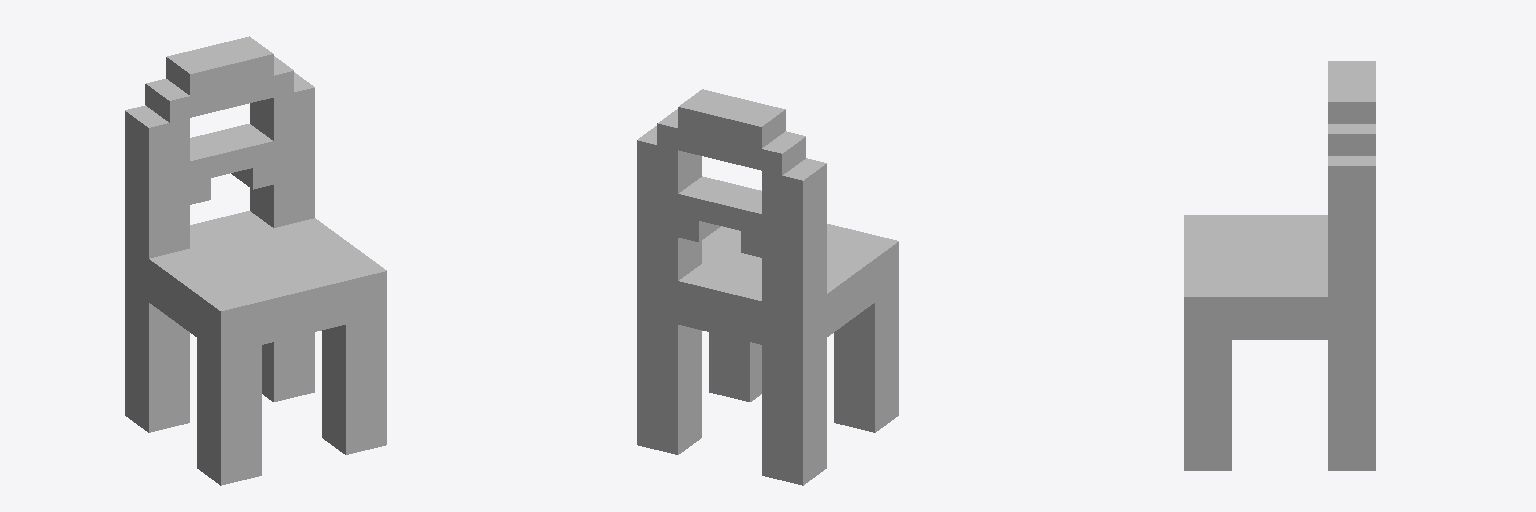
Rendered from chair.obj.
3 views of the same model, side by side, from view 1: azimuth 30°, elevation 25°; view 2: azimuth 150°, elevation 25°; view 3: azimuth 270°, elevation 25° (orthographic).
Parts seen in each view (by area): view 1: chair; view 2: chair; view 3: chair.
Part boxes in pixels (left/top/right/bottom): chair: left=125, top=36, right=386, bottom=485; chair: left=637, top=89, right=898, bottom=485; chair: left=1184, top=61, right=1375, bottom=470.
Size of the model in its own units: 8 by 16 by 8.